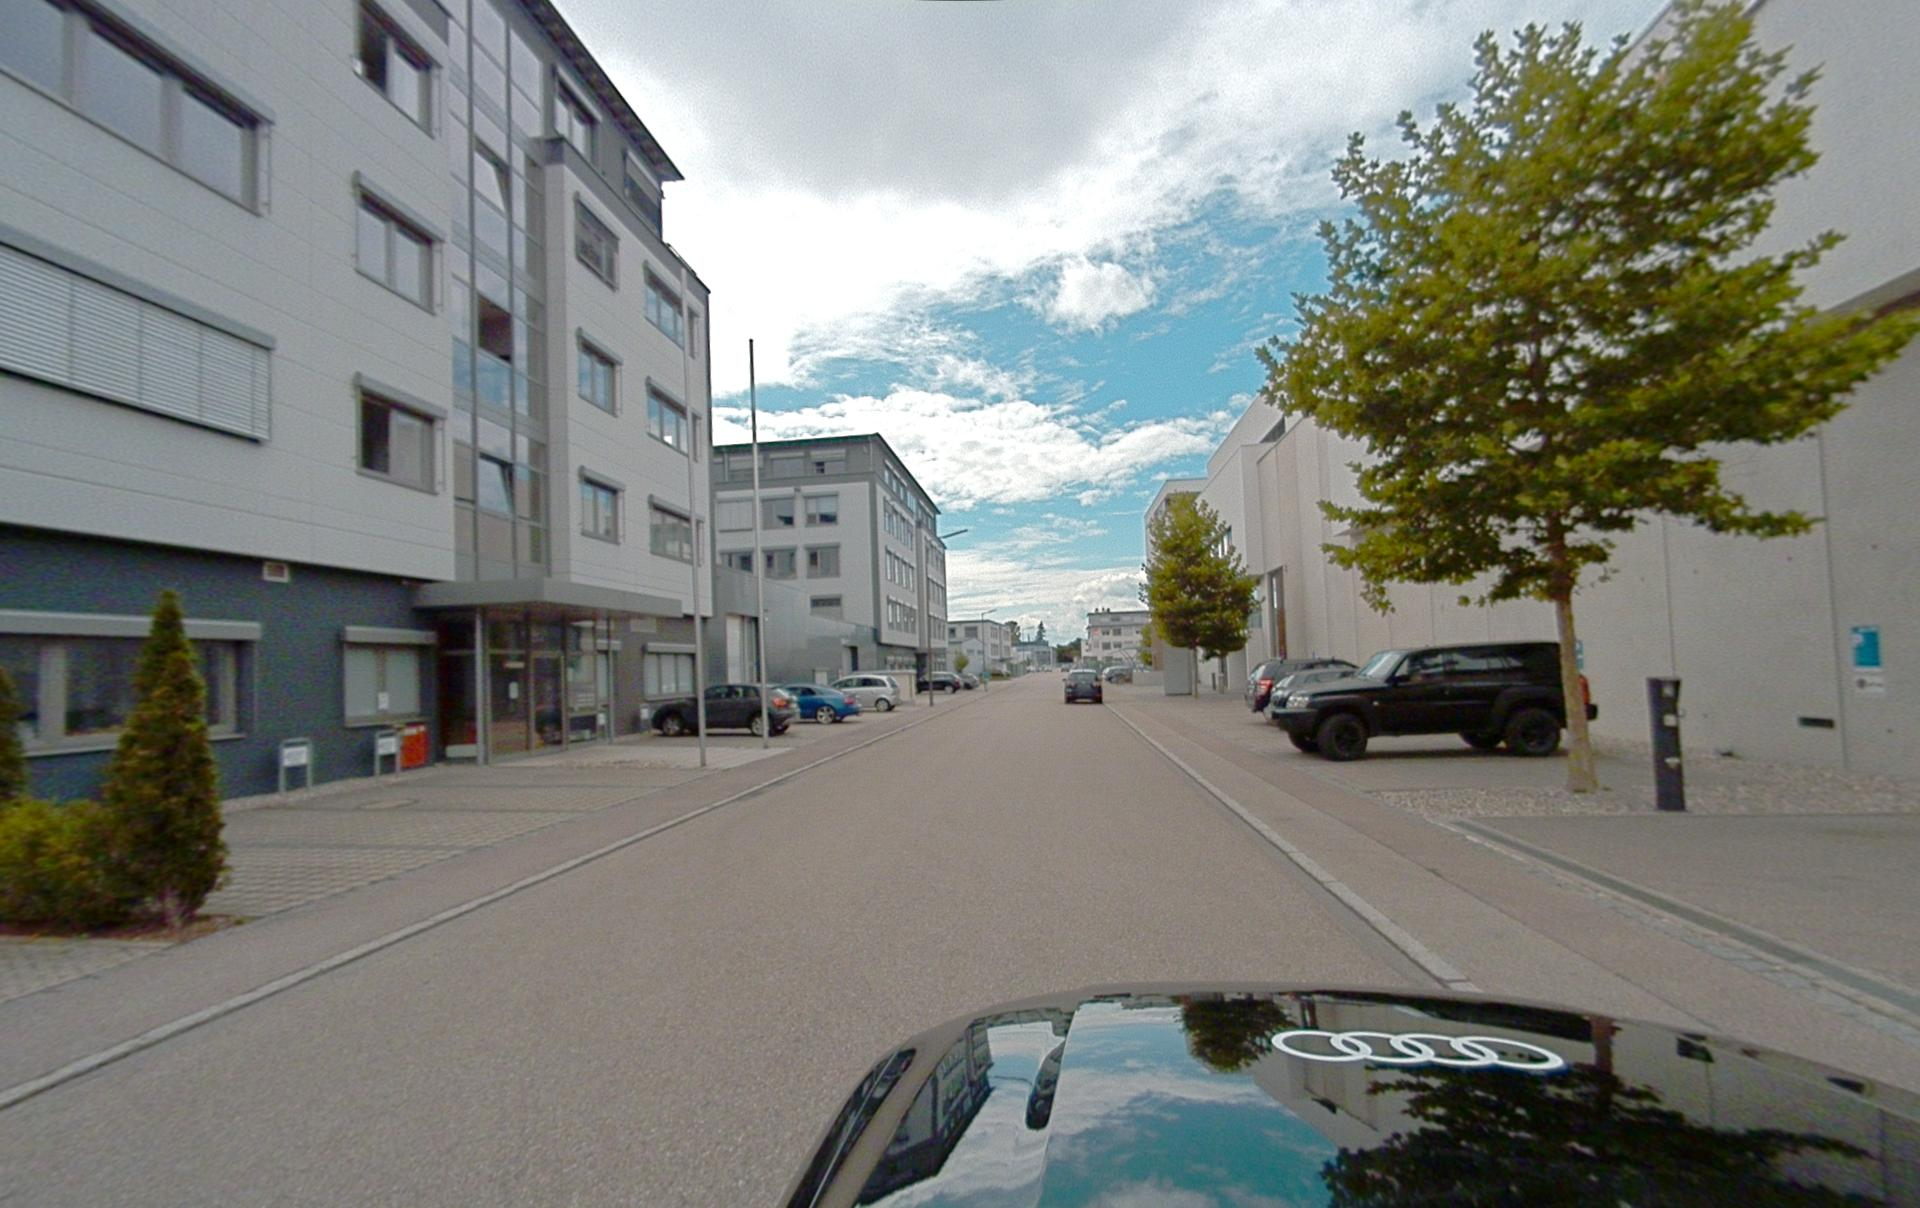car: (790, 985, 1919, 1207), (1272, 642, 1564, 758), (1247, 657, 1357, 710), (1267, 664, 1357, 717), (781, 683, 860, 724), (833, 674, 900, 711), (1064, 669, 1102, 703), (932, 671, 961, 692), (1103, 667, 1133, 683), (961, 672, 979, 689)
